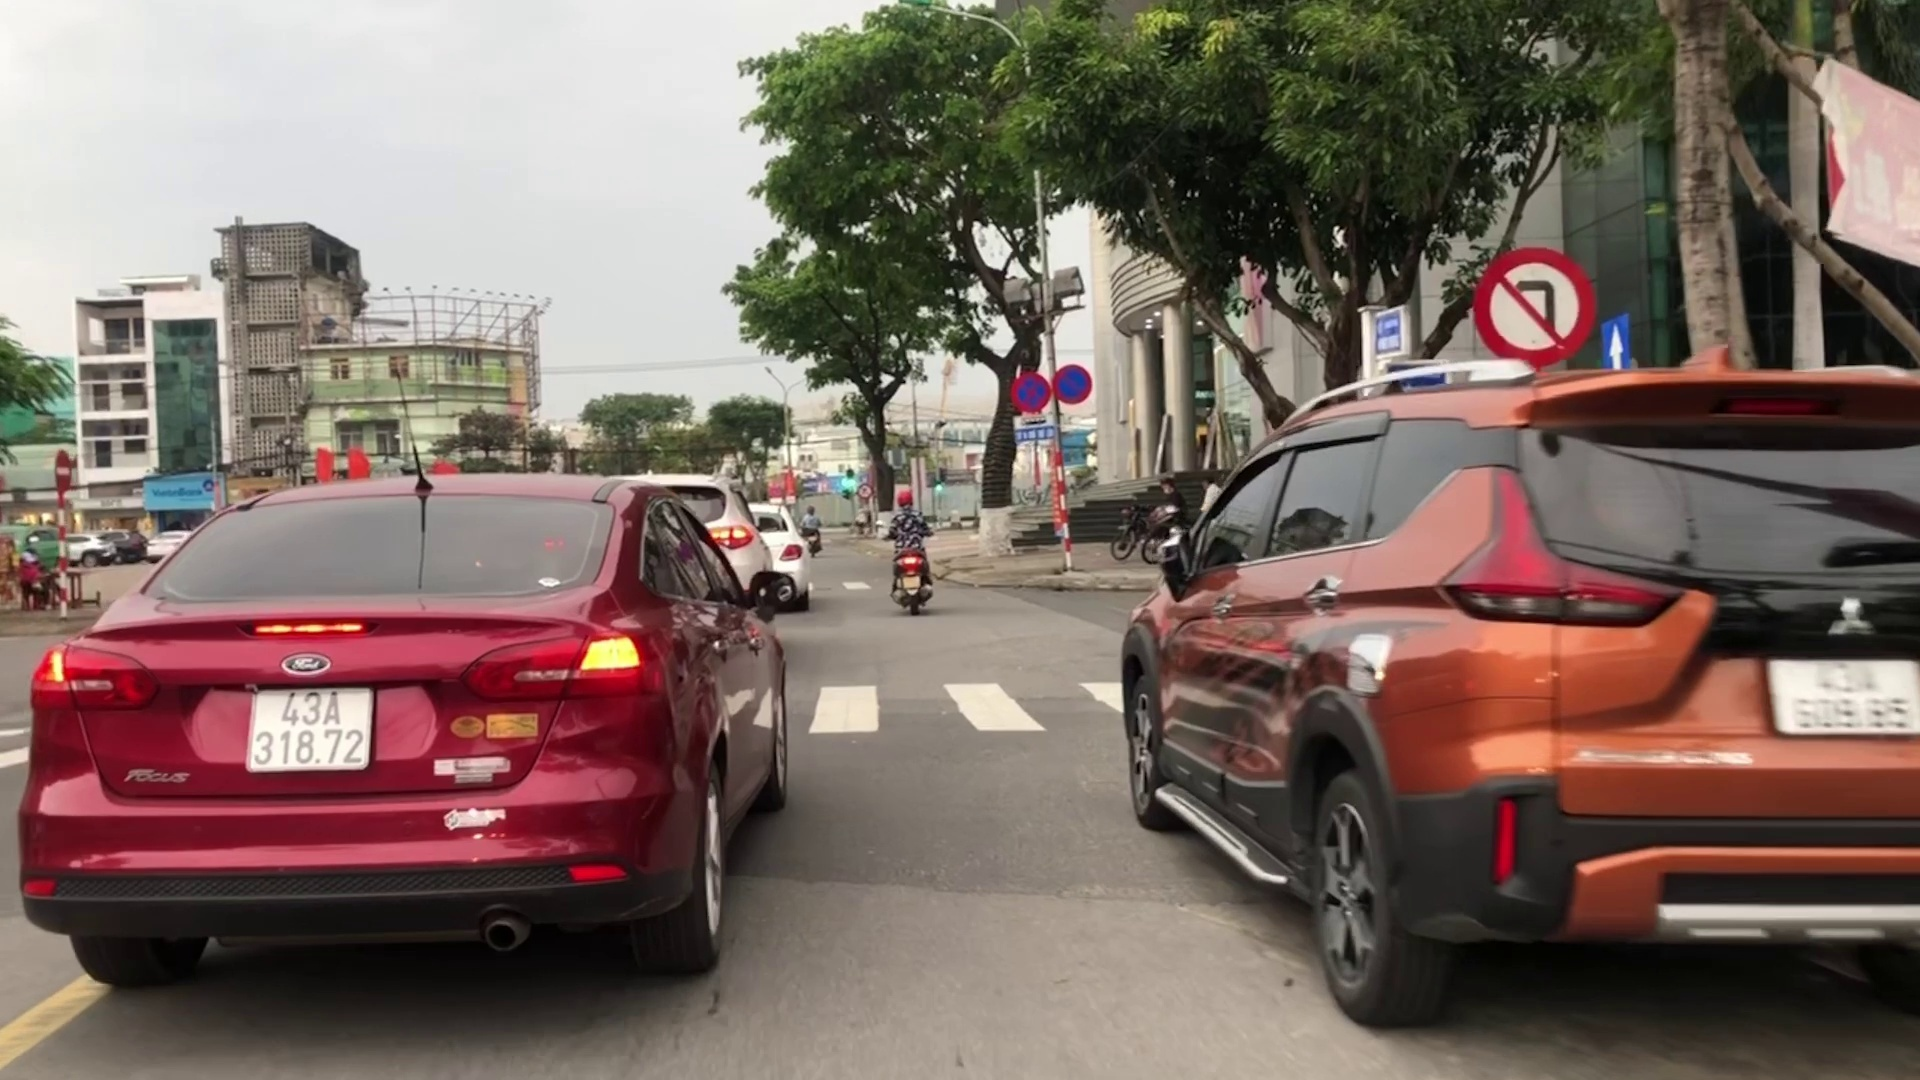Bien khac: (1468, 245, 1600, 367), (1600, 316, 1630, 373), (1013, 373, 1044, 413)
Cam do xe: (1048, 359, 1089, 407)
